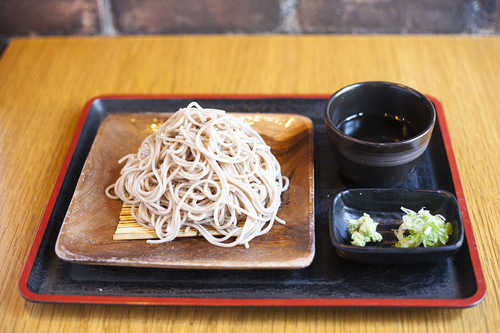Soba: (110, 99, 289, 249)
